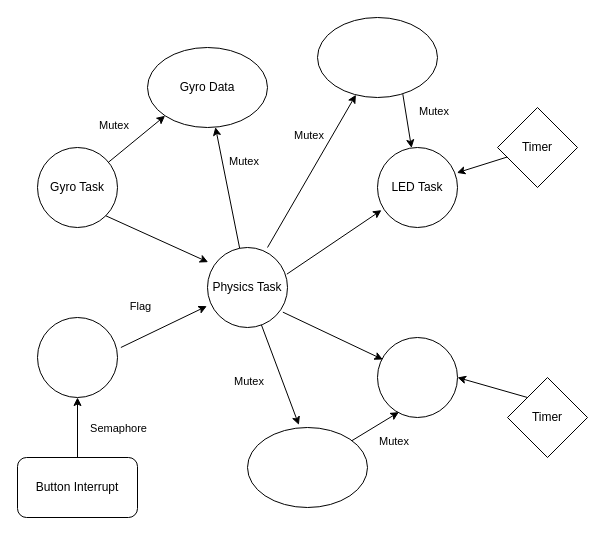
This 605x535 diagram has some shape labels left out. Here are the shapes that lost their labels. From the top down, the centre of each, then its label:
point (377, 57): LED Data
point (77, 357): Button Task
point (417, 377): LCD Task
point (307, 467): LCD Data
